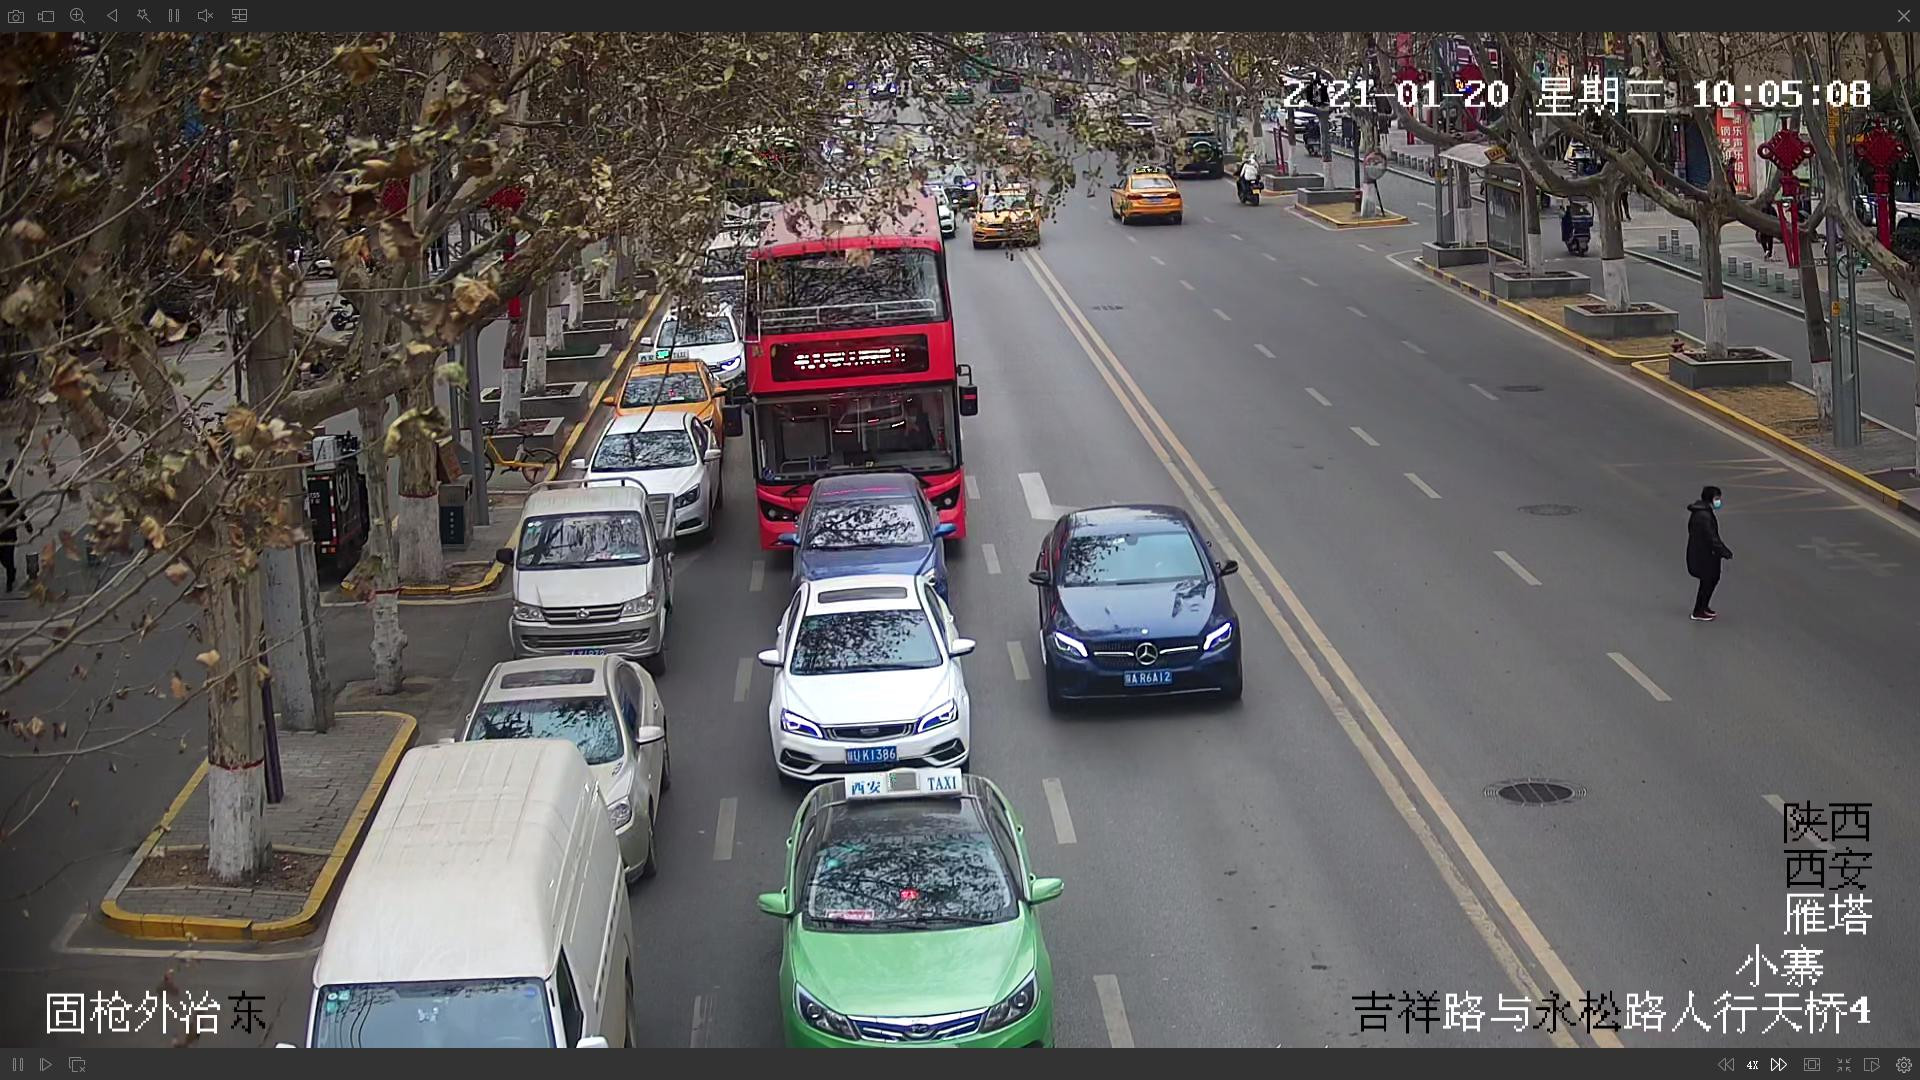dark-blue: (1033, 506, 1241, 709)
grass-green: (767, 777, 1046, 1050)
silver-gray: (497, 484, 665, 651)
white: (762, 578, 969, 766)
